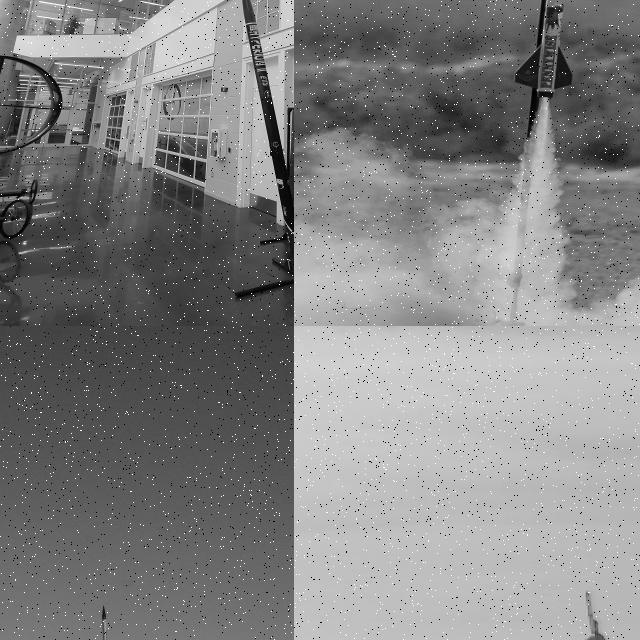Rocket: (242, 0, 294, 273), (515, 0, 580, 98), (578, 590, 610, 640), (96, 604, 113, 640)
